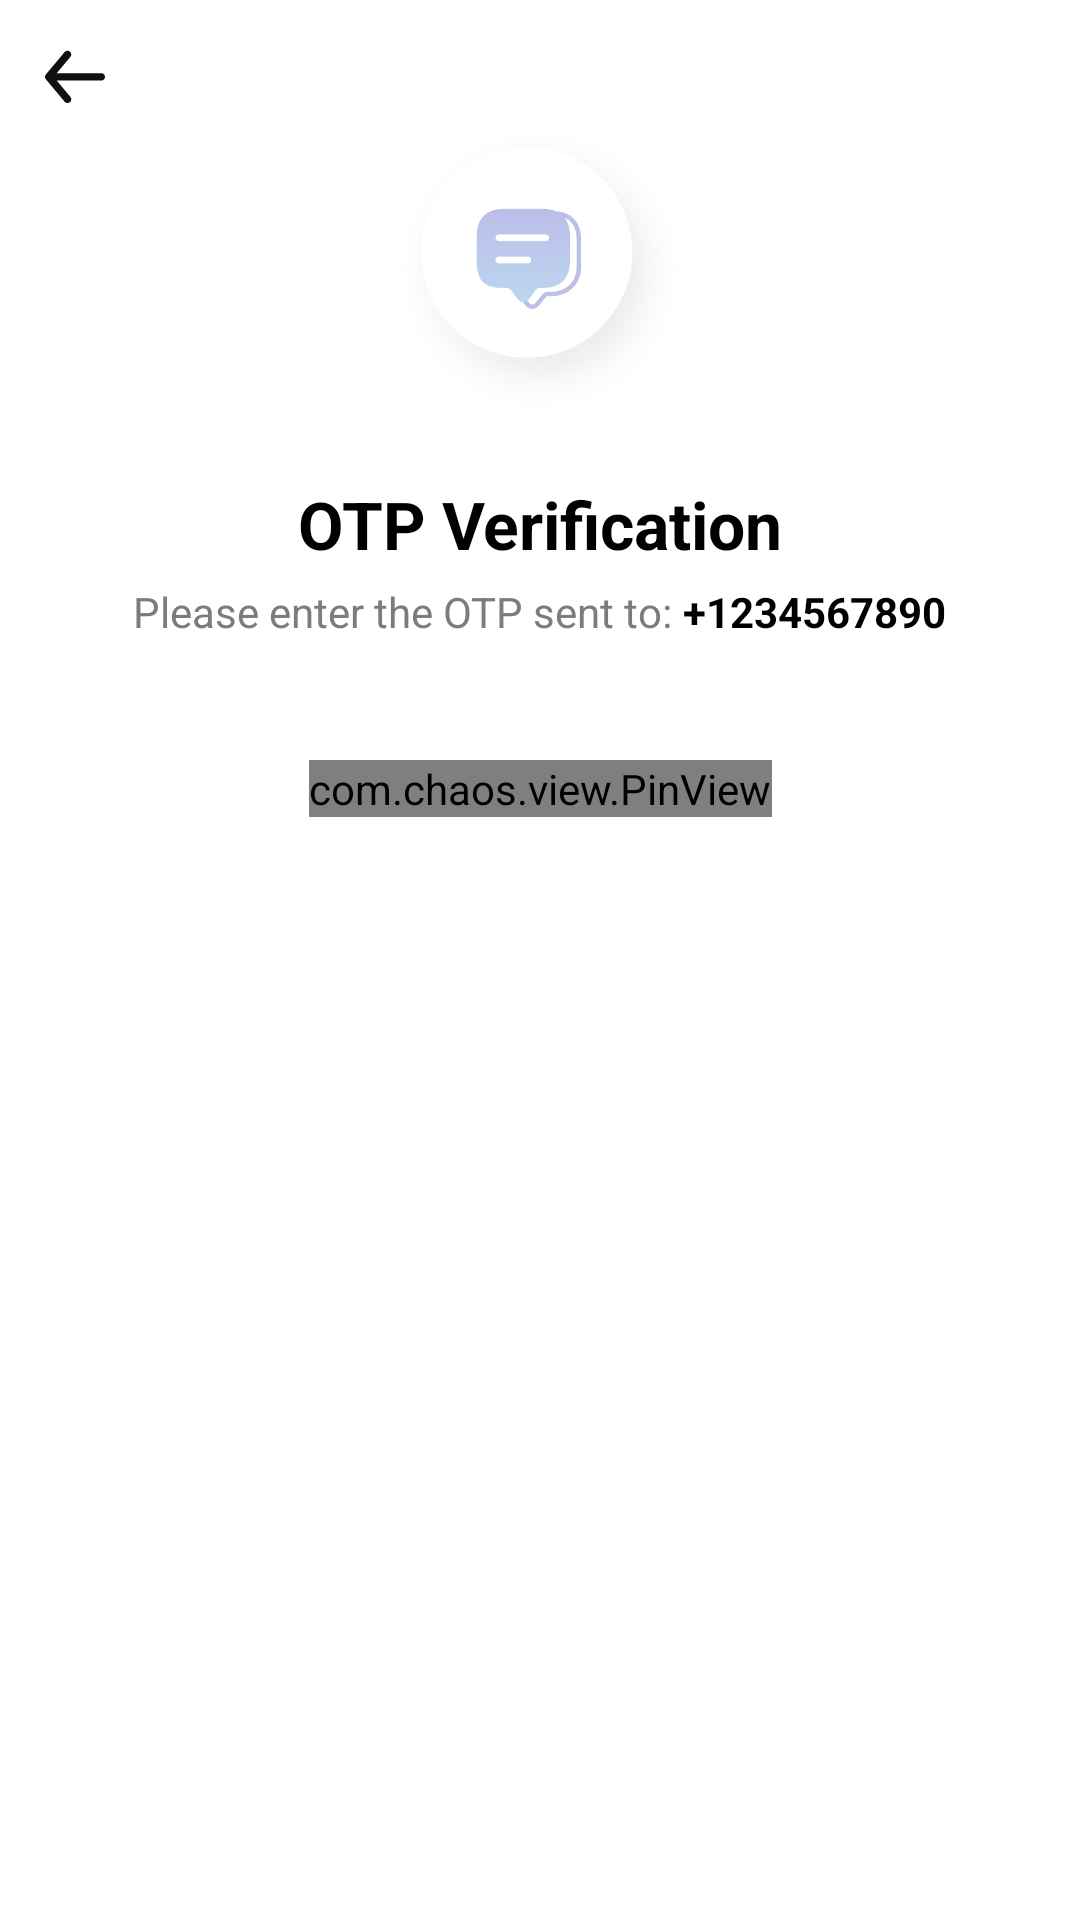

Where to tap for icons on this 1080 x 1920 app screen, as [x,y]:
back: [75,76]
